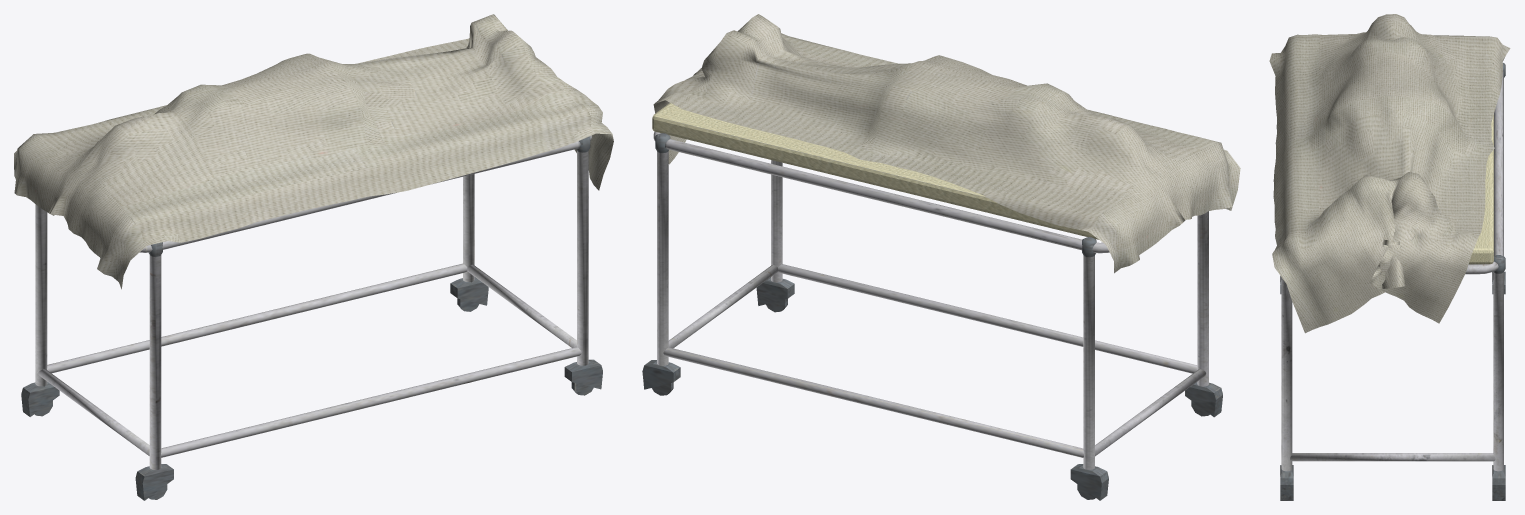
Rendered from hospital_stretcher.glb.
3 renders of one model, left to right at view 1: azimuth 30°, elevation 25°; view 2: azimuth 150°, elevation 25°; view 3: azimuth 270°, elevation 25°, orthographic. The views are drawn at different scales.
Visible parts, largest first — view 1: Maca; view 2: Maca; view 3: Maca.
Boxes of the visible parts, x1,y1,x2,y2 form: Maca: (14, 14, 613, 500); Maca: (642, 14, 1240, 500); Maca: (1269, 14, 1510, 500).
Size of the model in its own units: 243 by 155 by 108.
Materials: 4 (4 with a texture image).
